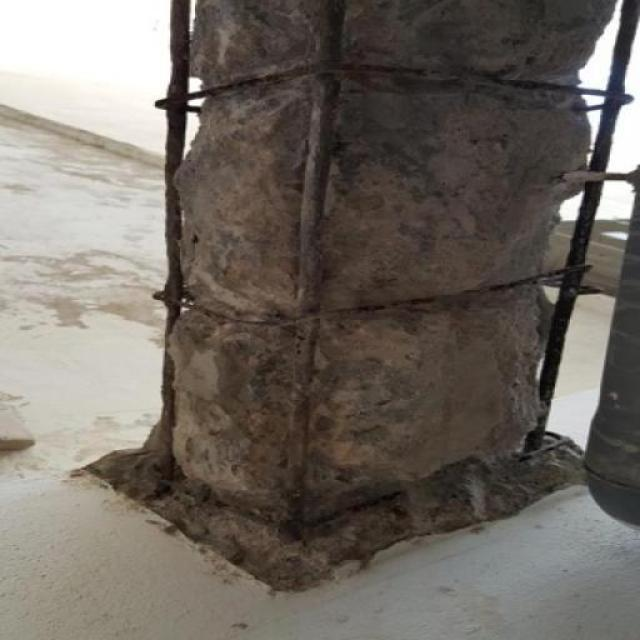D0w0: (80, 0, 639, 594)
